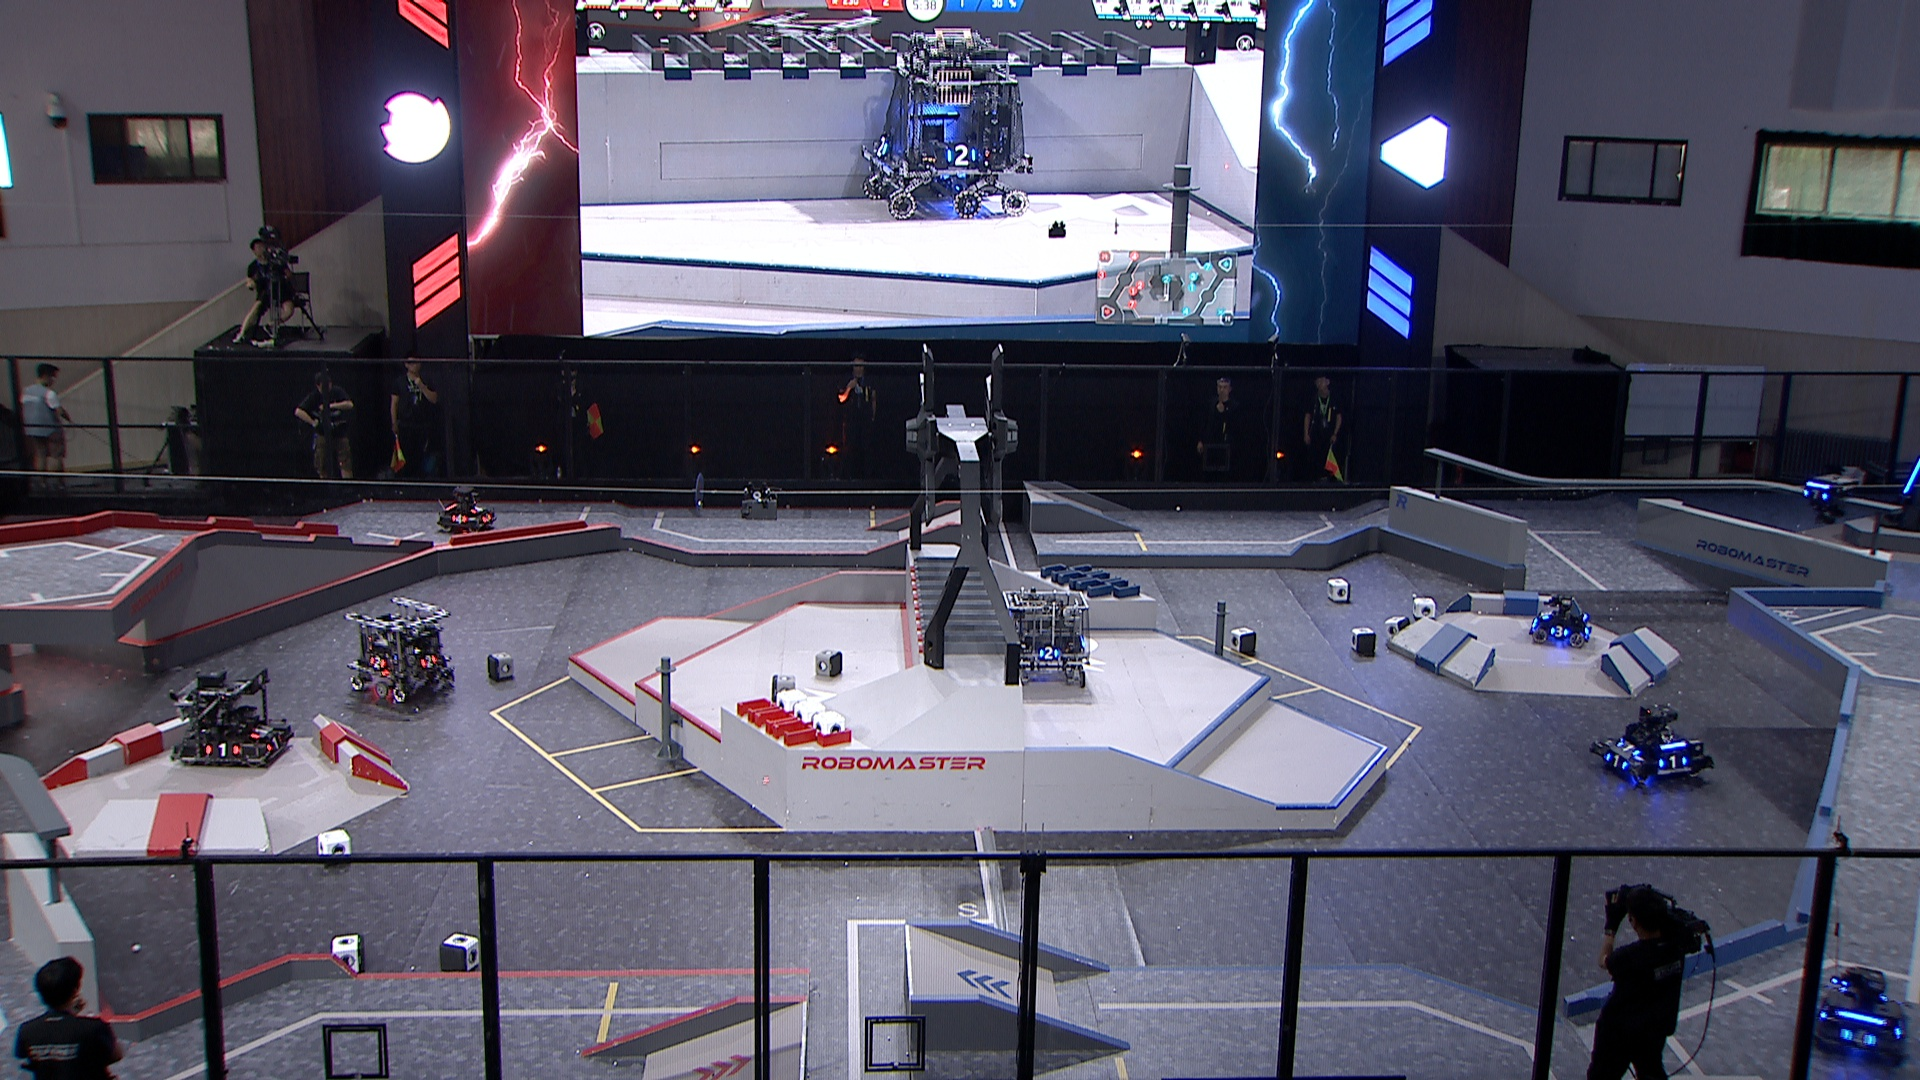armor: (1842, 1025, 1879, 1048), (202, 741, 243, 760), (1903, 462, 1920, 495), (1605, 752, 1631, 771), (1615, 740, 1644, 757), (1659, 756, 1689, 771), (248, 723, 272, 741), (368, 654, 390, 673), (1803, 488, 1830, 502), (266, 735, 286, 752), (419, 654, 439, 670), (1040, 646, 1062, 659), (451, 512, 469, 526), (1549, 626, 1569, 640), (468, 505, 487, 517), (1539, 608, 1555, 621), (481, 513, 495, 524)
base: (1878, 446, 1920, 535)
car: (167, 665, 295, 767), (344, 593, 455, 699), (1590, 699, 1716, 787), (1004, 585, 1093, 687), (1815, 969, 1908, 1065), (1528, 591, 1596, 647), (436, 484, 496, 534)
ignore: (862, 29, 1035, 222)
watcher: (1801, 471, 1855, 527)
